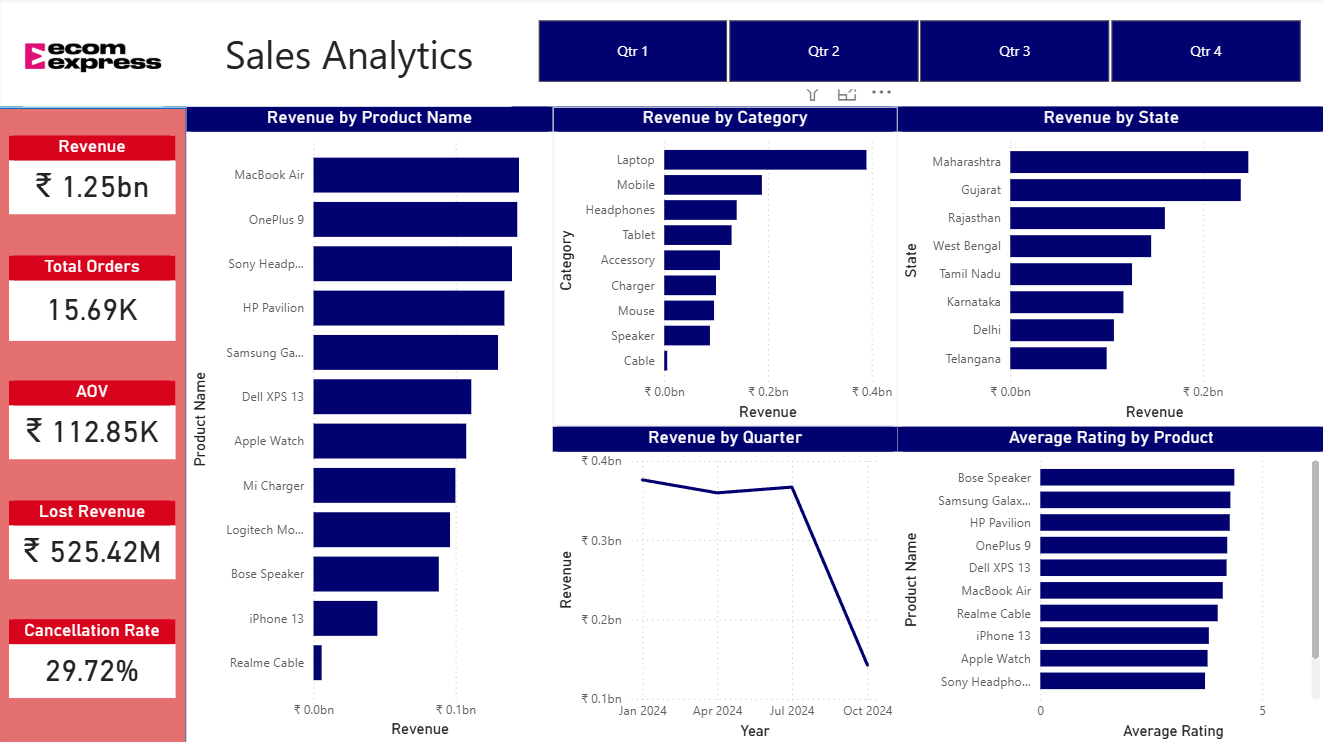

What the dashboard file says about the page in this screenshot:
{"tool":"powerbi","page":{"name":"Page 1","canvas":[1280,720],"ordinal":0},"visuals":[{"type":"shape","box":[0,0,1280.3,105.7],"z":0},{"type":"image","box":[0,14.5,181,90.5],"z":1000},{"type":"shape","box":[0,106.2,181,614.1],"z":2000},{"type":"barChart","fields":{"Category":["Products.Product Name"],"Y":["Table.Revenue"]},"box":[181,105,353.5,614.1],"z":3000},{"type":"barChart","fields":{"Category":["Products.Category"],"Y":["Table.Revenue"]},"box":[534.5,105,333,307.6],"z":4000},{"type":"lineChart","title":"Revenue by Quarter","fields":{"Y":["Table.Revenue"],"Category":["Orders.Date and time of purchase.Variation.Date Hierarchy.Year","Orders.Date and time of purchase.Variation.Date Hierarchy.Quarter","Orders.Date and time of purchase.Variation.Date Hierarchy.Month","Orders.Date and time of purchase.Variation.Date Hierarchy.Day"]},"box":[534.5,413.8,333,306.4],"z":5000},{"type":"barChart","fields":{"Category":["Customers.State"],"Y":["Table.Revenue"]},"box":[867.4,105,412.6,307.6],"z":6000},{"type":"barChart","title":"Average Rating by Product ","fields":{"Y":["Avg(Products.Rating)"],"Category":["Products.Product Name"]},"box":[867.4,413.8,412.6,306.4],"z":7000},{"type":"textbox","box":[181,24.1,313.7,80.8],"z":8000},{"type":"slicer","title":"Quarters","fields":{"Values":["Orders.Date and time of purchase.Variation.Date Hierarchy.Quarter"]},"box":[494.6,14.5,785.4,73.6],"z":9000},{"type":"card","title":"Revenue","fields":{"Values":["Table.Revenue"]},"box":[9.7,132.7,160.5,76],"z":10000},{"type":"card","title":"Lost Revenue","fields":{"Values":["Table.Lost_revenue_cancellation"]},"box":[9.7,484.4,160.5,76],"z":11000},{"type":"card","title":"Cancellation Rate","fields":{"Values":["Table.Cancellation rate"]},"box":[9.7,599.6,160.5,76],"z":12000},{"type":"card","title":"Total Orders","fields":{"Values":["CountNonNull(Orders.OrderID)"]},"box":[9.7,247.9,160.5,82],"z":13000},{"type":"card","title":"AOV","fields":{"Values":["Table.Avg_order_value"]},"box":[9.7,369.2,160.5,76],"z":14000}]}

Visuals, with their boxes in screenshot pixels (x1, y1, x2, y2), scaled from the page's 1280x720 canvas onto the 1323x742 screenshot:
shape: detection(0, 0, 1322, 109)
image: detection(0, 15, 187, 108)
shape: detection(0, 109, 187, 741)
barChart - Products.Product Name x Table.Revenue: detection(187, 108, 552, 741)
barChart - Products.Category x Table.Revenue: detection(552, 108, 897, 425)
"Revenue by Quarter" lineChart: detection(552, 426, 897, 741)
barChart - Customers.State x Table.Revenue: detection(897, 108, 1322, 425)
"Average Rating by Product " barChart: detection(897, 426, 1322, 741)
textbox: detection(187, 25, 511, 108)
"Quarters" slicer: detection(511, 15, 1322, 91)
"Revenue" card: detection(10, 137, 176, 215)
"Lost Revenue" card: detection(10, 499, 176, 578)
"Cancellation Rate" card: detection(10, 618, 176, 696)
"Total Orders" card: detection(10, 255, 176, 340)
"AOV" card: detection(10, 380, 176, 459)
